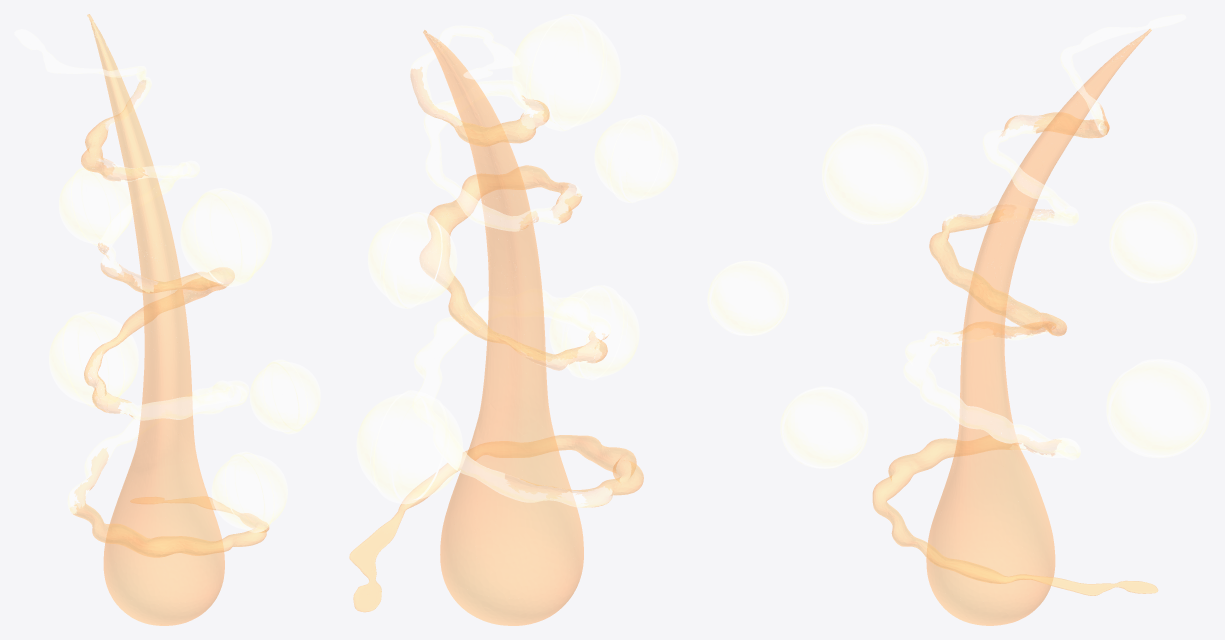
The model's file is liquid-drop.glb.
3 views of the same model, side by side, from view 1: azimuth 30°, elevation 25°; view 2: azimuth 150°, elevation 25°; view 3: azimuth 270°, elevation 25° (orthographic). The views are drawn at different scales.
Visible parts, largest first — view 1: tripo_part_6, tripo_part_12, tripo_part_2, tripo_part_17, tripo_part_5, tripo_part_7, tripo_part_1, tripo_part_16, tripo_part_0, tripo_part_9, tripo_part_4, tripo_part_10 (+3 smaller); view 2: tripo_part_6, tripo_part_5, tripo_part_2, tripo_part_17, tripo_part_7, tripo_part_12, tripo_part_16, tripo_part_1, tripo_part_0, tripo_part_9, tripo_part_4, tripo_part_10 (+3 smaller); view 3: tripo_part_6, tripo_part_2, tripo_part_17, tripo_part_12, tripo_part_7, tripo_part_16, tripo_part_1, tripo_part_5, tripo_part_0, tripo_part_4, tripo_part_9, tripo_part_14 (+2 smaller).
Boxes of the visible parts, left/top/right/bottom form: tripo_part_6: left=103, top=237, right=224, bottom=625; tripo_part_12: left=87, top=15, right=179, bottom=331; tripo_part_2: left=180, top=188, right=272, bottom=286; tripo_part_17: left=49, top=311, right=138, bottom=407; tripo_part_5: left=67, top=352, right=249, bottom=513; tripo_part_7: left=70, top=447, right=269, bottom=557; tripo_part_1: left=211, top=451, right=287, bottom=532; tripo_part_16: left=59, top=165, right=132, bottom=246; tripo_part_0: left=249, top=359, right=320, bottom=434; tripo_part_9: left=98, top=159, right=199, bottom=292; tripo_part_4: left=101, top=263, right=234, bottom=295; tripo_part_10: left=84, top=277, right=228, bottom=397; tripo_part_6: left=440, top=188, right=583, bottom=625; tripo_part_5: left=412, top=289, right=612, bottom=507; tripo_part_2: left=512, top=14, right=620, bottom=131; tripo_part_17: left=356, top=390, right=462, bottom=504; tripo_part_7: left=349, top=435, right=643, bottom=612; tripo_part_12: left=423, top=32, right=525, bottom=289; tripo_part_16: left=368, top=212, right=457, bottom=308; tripo_part_1: left=549, top=285, right=639, bottom=380; tripo_part_0: left=594, top=114, right=678, bottom=202; tripo_part_9: left=423, top=80, right=581, bottom=231; tripo_part_4: left=419, top=165, right=582, bottom=269; tripo_part_10: left=423, top=213, right=597, bottom=370; tripo_part_6: left=926, top=218, right=1055, bottom=625; tripo_part_2: left=822, top=123, right=928, bottom=224; tripo_part_17: left=1106, top=359, right=1210, bottom=458; tripo_part_12: left=985, top=30, right=1151, bottom=300; tripo_part_7: left=872, top=434, right=1158, bottom=595; tripo_part_16: left=1109, top=200, right=1197, bottom=283; tripo_part_1: left=780, top=386, right=868, bottom=468; tripo_part_5: left=903, top=330, right=1080, bottom=460; tripo_part_0: left=707, top=260, right=788, bottom=335; tripo_part_4: left=929, top=205, right=1041, bottom=329; tripo_part_9: left=944, top=115, right=1078, bottom=226; tripo_part_14: left=1060, top=14, right=1186, bottom=135.
Bounding box in the file's own units: 0.3352 × 0.9812 × 0.7607.
